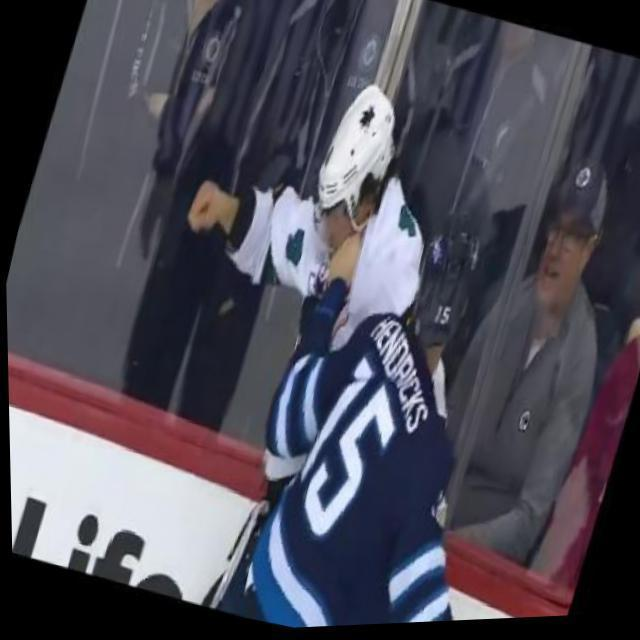fight: (68, 29, 580, 638)
